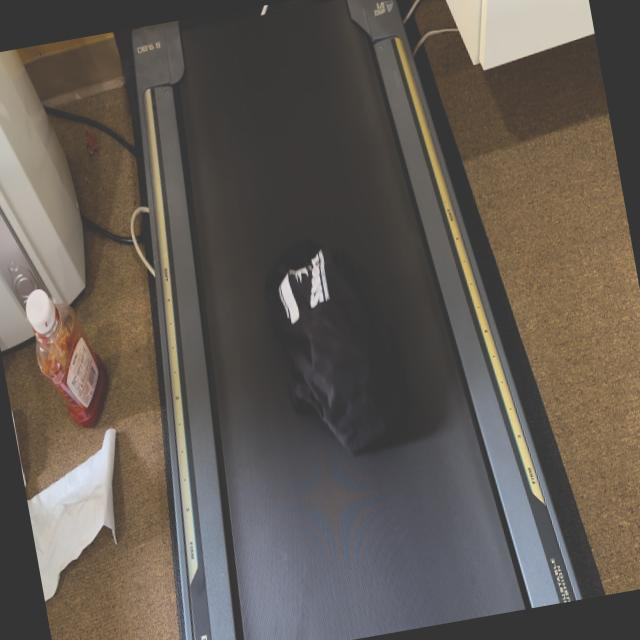Trash: (251, 206, 455, 471)
